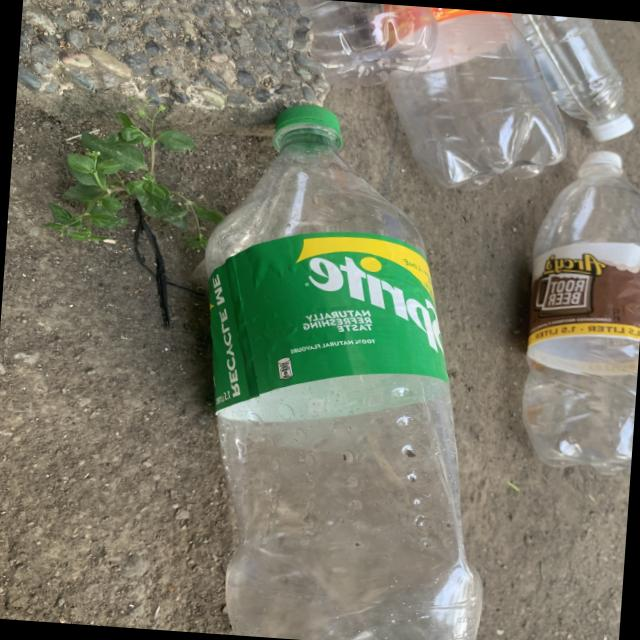Bottle: (203, 105, 481, 640)
